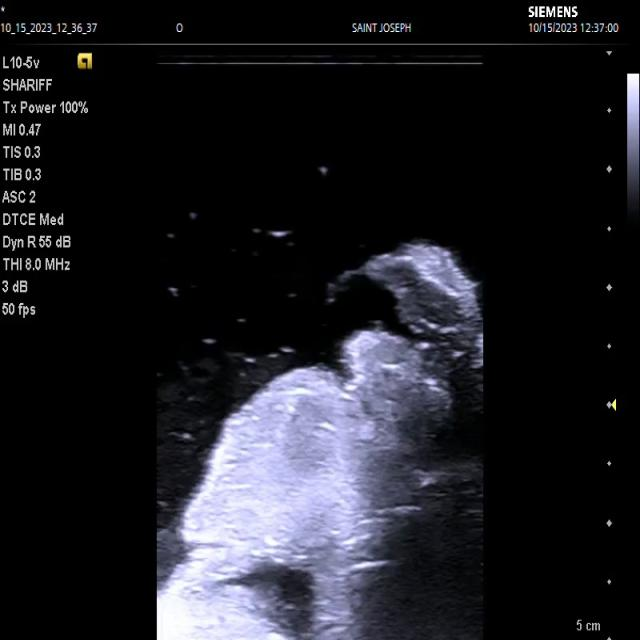tissue: (157, 332, 482, 640), (358, 244, 483, 371)
